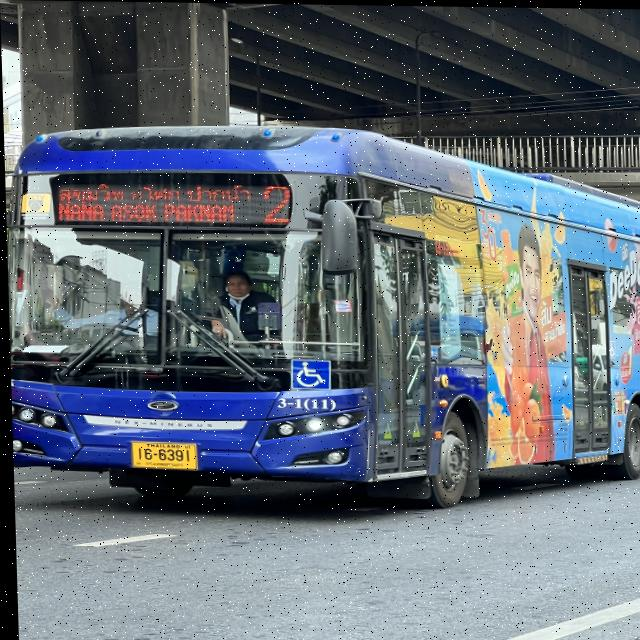Bus Line Number: (253, 183, 298, 224)
Bus Side Number: (272, 390, 335, 414)
Destination Sign: (51, 180, 252, 227)
TSB-Bus: (8, 122, 640, 509)
